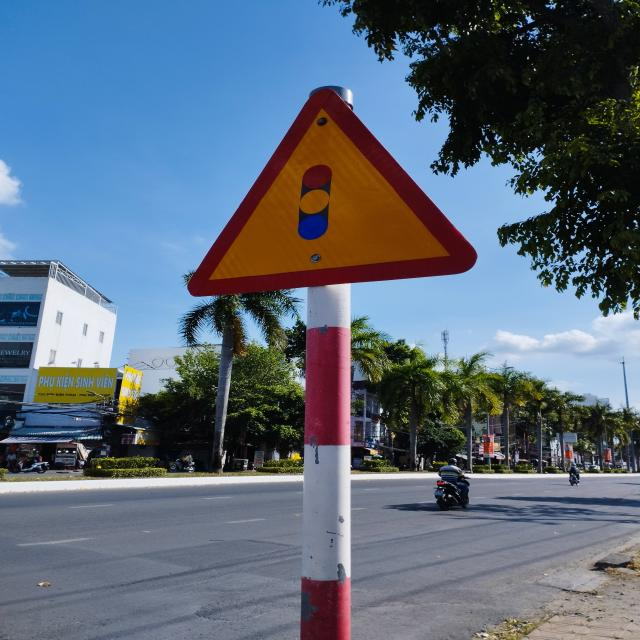Duong_Co_Go_Giam_Toc: (186, 88, 480, 298)
